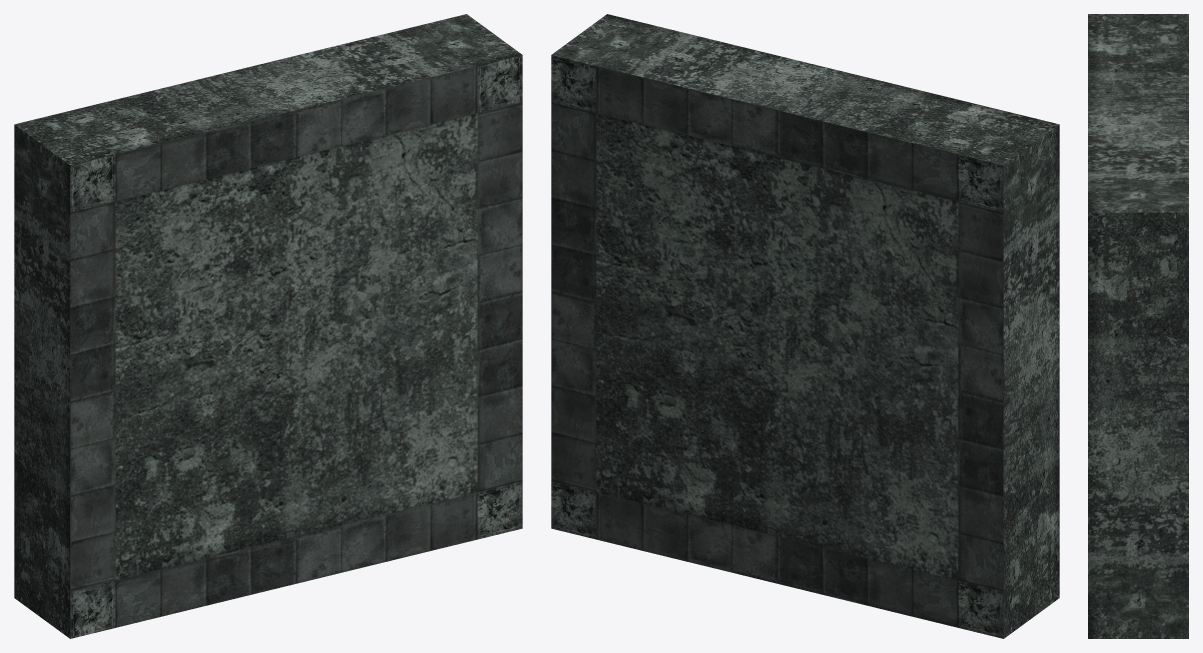
File: mg_9_plate_1.fbx
3 views of the same model, side by side, from view 1: azimuth 30°, elevation 25°; view 2: azimuth 150°, elevation 25°; view 3: azimuth 270°, elevation 25° (orthographic). The views are drawn at different scales.
Parts seen in each view (by area): view 1: mg_9_plate_1; view 2: mg_9_plate_1; view 3: mg_9_plate_1.
Boxes of the visible parts, <box> form: mg_9_plate_1: <box>14,14,522,638</box>; mg_9_plate_1: <box>551,14,1059,638</box>; mg_9_plate_1: <box>1088,14,1188,638</box>.
Bounding box in the file's own units: 402 × 402 × 86.19.
